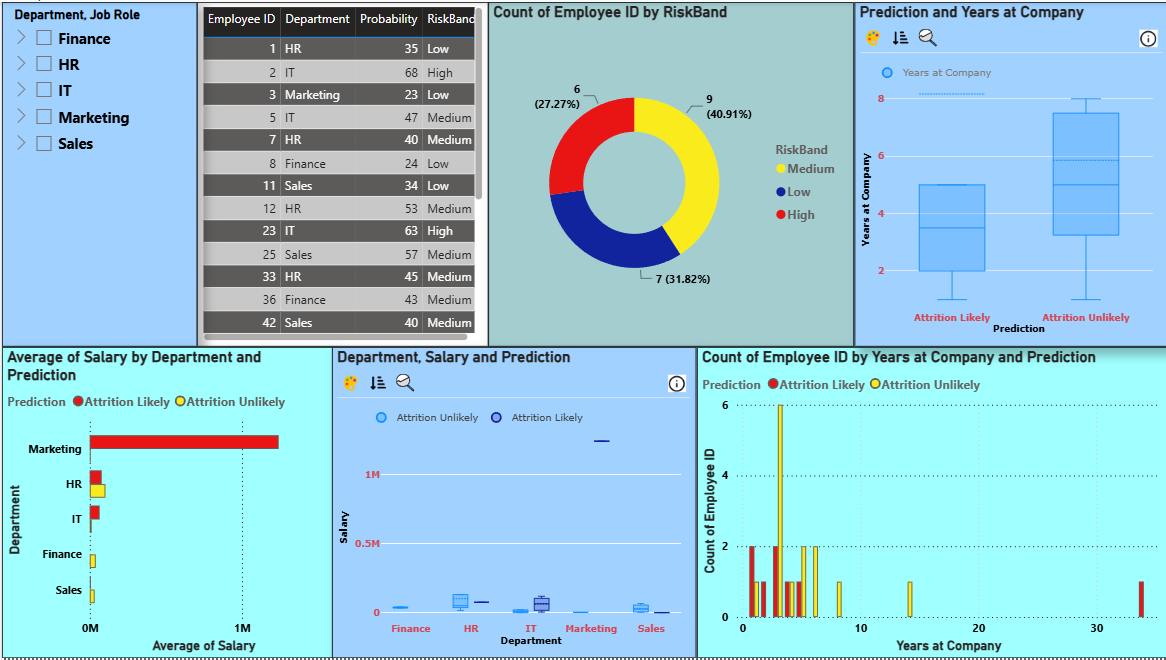

The page's visual inventory and layout, read from the dashboard file:
{"tool":"powerbi","page":{"name":"Page 2","canvas":[1280,720],"ordinal":1},"visuals":[{"type":"tableEx","fields":{"Values":["latest_predictions.Employee ID","latest_predictions.Department","latest_predictions.Probability","latest_predictions.RiskBand"]},"box":[214.3,0,320,378.6],"z":0},{"type":"donutChart","fields":{"Category":["latest_predictions.RiskBand"],"Y":["CountNonNull(latest_predictions.Employee ID)"]},"box":[534.3,0,401.4,378.6],"z":1000},{"type":"slicer","fields":{"Values":["latest_predictions.Department","latest_predictions.Job Role"]},"box":[0,0,214.3,378.6],"z":2000},{"type":"clusteredBarChart","fields":{"Category":["latest_predictions.Department"],"Series":["latest_predictions.Prediction"],"Y":["Avg(latest_predictions.Salary)"]},"box":[0,378.3,363.3,341.7],"z":3000},{"type":"boxandwhiskerwithpoints3B3DF5C11B683E5DB4E630DD7899B035","fields":{"col_0":["latest_predictions.Department"],"col_2":["latest_predictions.Salary"],"col_1":["latest_predictions.Prediction"]},"box":[362.9,378.6,400,341.4],"z":4000},{"type":"clusteredColumnChart","fields":{"Category":["latest_predictions.Years at Company"],"Series":["latest_predictions.Prediction"],"Y":["CountNonNull(latest_predictions.Employee ID)"]},"box":[762.9,378.6,517.1,341.4],"z":5000},{"type":"boxandwhiskerwithpoints3B3DF5C11B683E5DB4E630DD7899B035","fields":{"col_0":["latest_predictions.Prediction"],"col_2":["latest_predictions.Years at Company"]},"box":[935.7,0,344.3,378.6],"z":6000}]}

Visuals, with their boxes in screenshot pixels (x1, y1, x2, y2), scaled from the page's 1280x720 canvas onto the 1166x660 screenshot:
tableEx - latest_predictions.Employee ID x latest_predictions.Department: l=195, t=0, r=487, b=347
donutChart - latest_predictions.RiskBand x CountNonNull(latest_predictions.Employee ID): l=487, t=0, r=852, b=347
slicer - latest_predictions.Department x latest_predictions.Job Role: l=0, t=0, r=195, b=347
clusteredBarChart - latest_predictions.Department x latest_predictions.Prediction: l=0, t=347, r=331, b=659
boxandwhiskerwithpoints3B3DF5C11B683E5DB4E630DD7899B035 - latest_predictions.Department x latest_predictions.Salary: l=331, t=347, r=695, b=659
clusteredColumnChart - latest_predictions.Years at Company x latest_predictions.Prediction: l=695, t=347, r=1165, b=659
boxandwhiskerwithpoints3B3DF5C11B683E5DB4E630DD7899B035 - latest_predictions.Prediction x latest_predictions.Years at Company: l=852, t=0, r=1165, b=347
